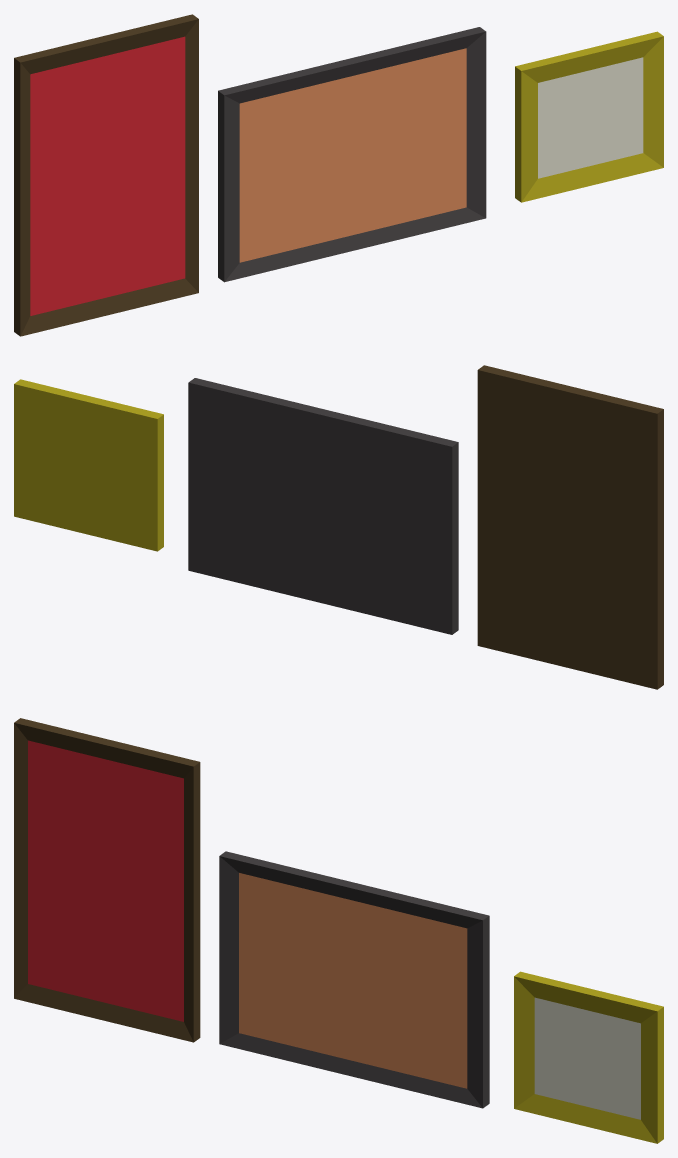
Rendered from Picture Frames.FBX.
3 views of the same model, one above another, from view 1: azimuth 30°, elevation 25°; view 2: azimuth 150°, elevation 25°; view 3: azimuth 330°, elevation 25° (orthographic).
Parts seen in each view (by area): view 1: Picture Frame 01, Picture Frame, Picture Frame 02; view 2: Picture Frame, Picture Frame 01, Picture Frame 02; view 3: Picture Frame, Picture Frame 01, Picture Frame 02.
Boxes of the visible parts, <box> form: Picture Frame 01: <box>218,27,486,282</box>; Picture Frame: <box>14,14,198,336</box>; Picture Frame 02: <box>515,31,663,202</box>; Picture Frame: <box>477,365,663,689</box>; Picture Frame 01: <box>188,378,458,634</box>; Picture Frame 02: <box>14,379,163,551</box>; Picture Frame: <box>14,718,200,1042</box>; Picture Frame 01: <box>219,851,489,1108</box>; Picture Frame 02: <box>514,971,663,1143</box>.
Size of the model in its own units: 10.81 by 4.41 by 0.2531.
